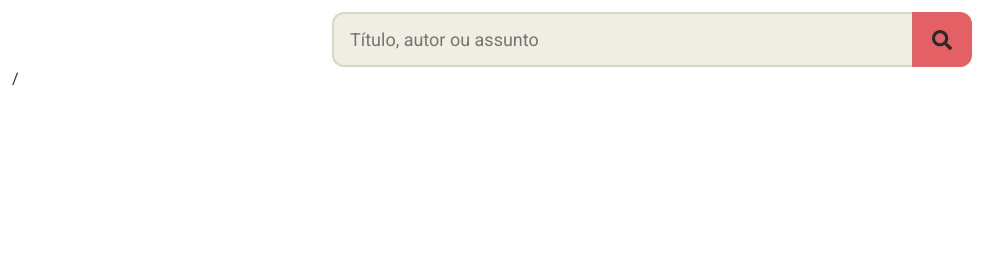
Test case: Search › sugere buscas recentes ao focar o campo
The width and height of the screenshot is (1002, 263).
Step 1. Click the dropdown named "Buscar livros" → (622, 40), box [332, 12, 912, 67]
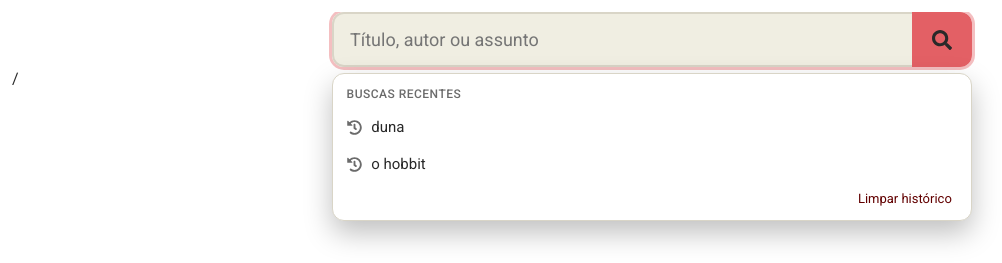
Expected: the options read "duna", "o hobbit", in this order, [347, 118, 404, 136]; [347, 155, 426, 173]
